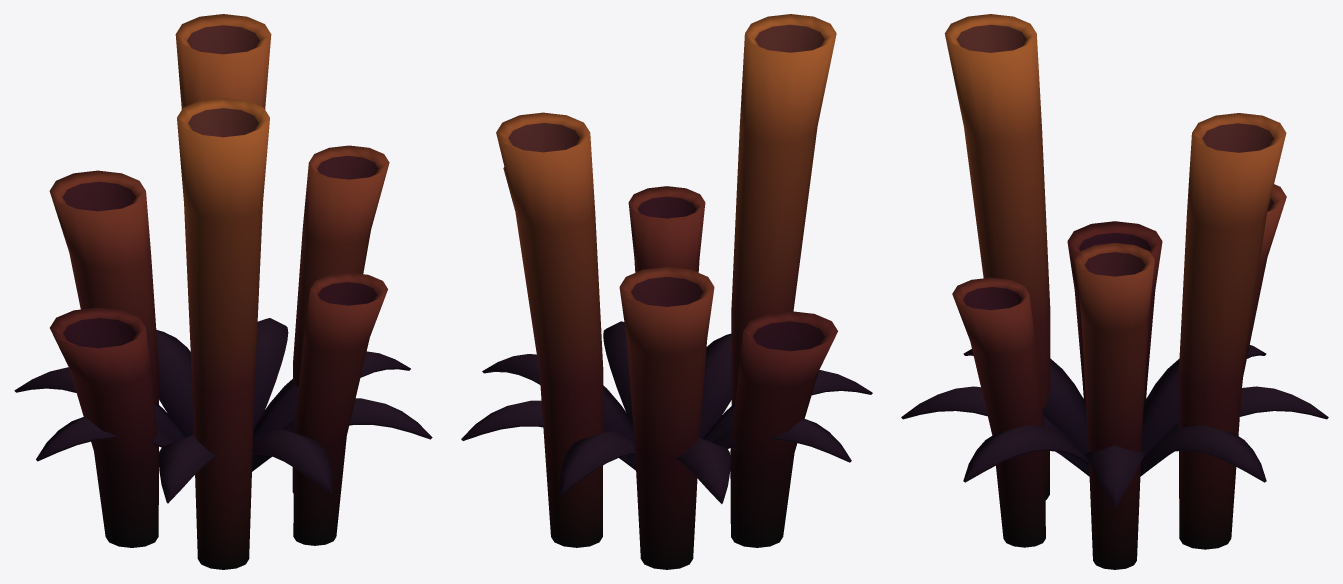
File: SM_Alien_Trumpets_02.fbx
3 views of the same model, side by side, from view 1: azimuth 30°, elevation 25°; view 2: azimuth 150°, elevation 25°; view 3: azimuth 270°, elevation 25° (orthographic).
Visible parts, largest first — view 1: SM_Alien_Trumpets_02; view 2: SM_Alien_Trumpets_02; view 3: SM_Alien_Trumpets_02.
Boxes of the visible parts, x1,y1,x2,y2 form: SM_Alien_Trumpets_02: (14, 14, 432, 569); SM_Alien_Trumpets_02: (461, 14, 872, 569); SM_Alien_Trumpets_02: (901, 14, 1328, 569).
Size of the model in its own units: 131 by 131 by 153.
